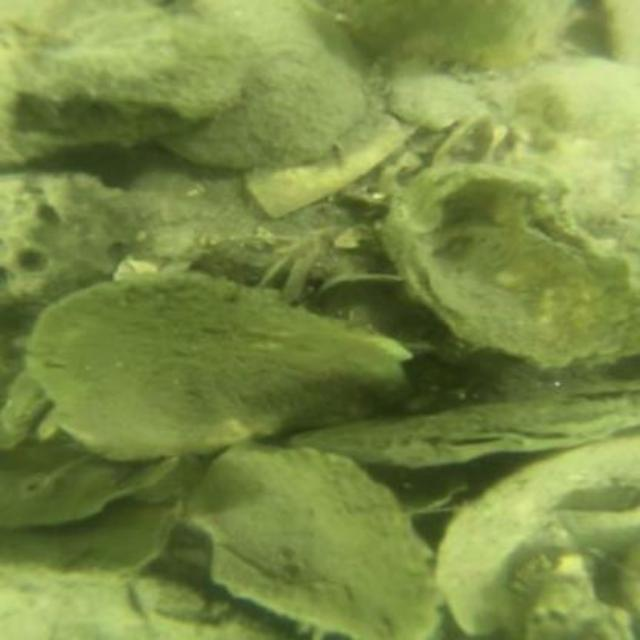Oyster-Closed: (25, 272, 417, 464), (379, 155, 638, 372), (188, 444, 450, 638), (431, 430, 638, 638), (150, 0, 370, 169), (284, 385, 638, 473), (0, 0, 246, 122), (334, 0, 577, 70), (2, 498, 190, 588), (0, 446, 181, 535)
